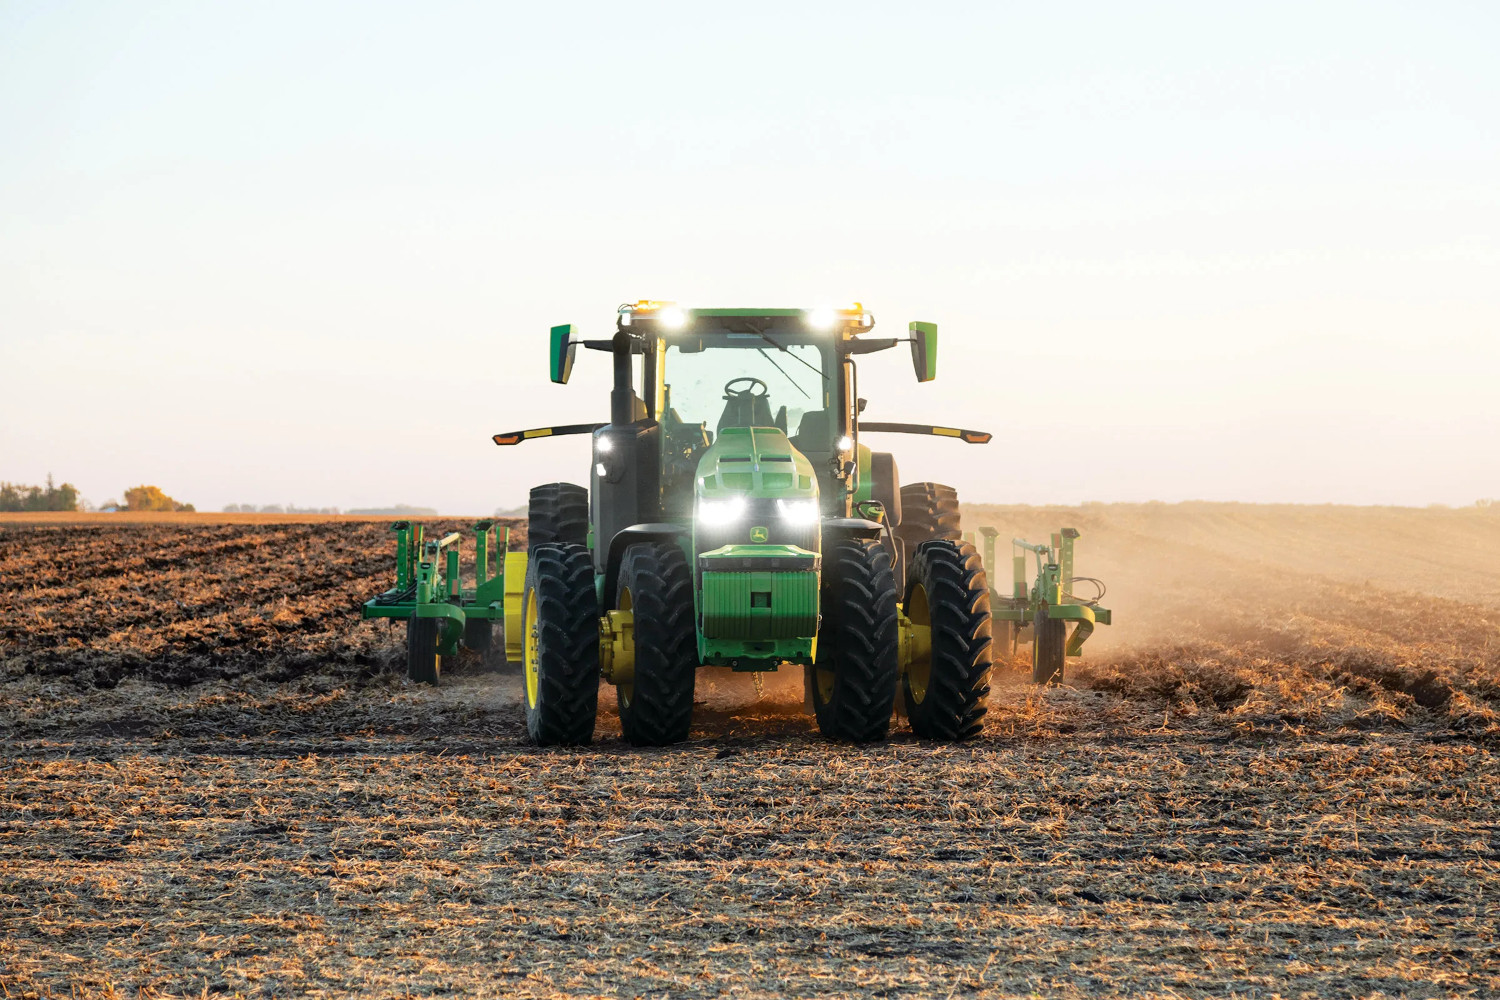tractor: (494, 294, 996, 752)
